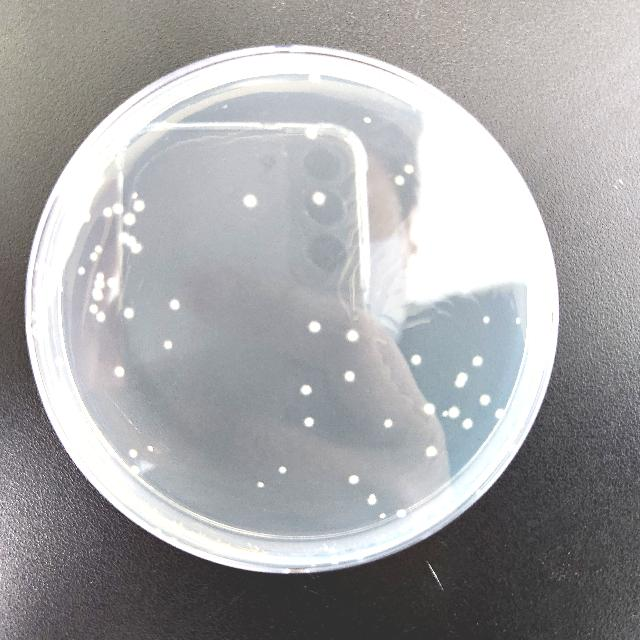colony: (312, 190, 326, 206), (243, 194, 257, 208), (346, 328, 359, 342), (308, 321, 322, 334), (122, 212, 136, 225), (306, 126, 318, 140), (133, 198, 145, 212), (422, 403, 436, 415), (118, 231, 130, 243), (92, 288, 104, 300), (112, 203, 124, 215), (394, 174, 406, 186), (300, 384, 312, 396), (437, 269, 448, 281), (108, 276, 119, 288), (448, 406, 459, 418), (132, 242, 142, 254), (103, 206, 113, 218), (124, 307, 134, 319), (114, 366, 126, 376), (170, 298, 180, 310), (426, 446, 438, 456), (96, 310, 106, 322), (411, 354, 422, 364), (462, 418, 473, 428), (344, 371, 354, 382), (304, 417, 314, 428), (406, 288, 416, 298), (95, 279, 105, 289), (126, 236, 136, 246), (457, 371, 467, 381), (495, 408, 505, 418), (310, 73, 320, 83), (397, 508, 407, 518), (405, 164, 415, 174), (81, 212, 91, 222), (128, 448, 138, 458), (89, 304, 99, 314), (130, 464, 140, 474), (349, 474, 359, 484), (472, 356, 482, 366), (480, 394, 490, 404), (419, 247, 428, 257), (383, 418, 392, 428), (367, 498, 377, 506), (456, 378, 464, 388), (164, 339, 172, 349), (56, 356, 64, 366), (448, 226, 457, 234), (448, 274, 456, 282), (492, 240, 500, 248), (96, 272, 104, 280), (464, 252, 472, 260), (440, 246, 448, 254), (447, 248, 455, 256), (455, 271, 463, 279), (461, 284, 469, 292), (502, 260, 510, 268), (476, 254, 484, 262), (482, 315, 490, 323), (279, 465, 287, 473), (95, 245, 103, 253), (90, 252, 98, 260), (42, 310, 48, 320), (78, 266, 85, 274), (446, 280, 454, 286), (132, 192, 138, 200), (442, 410, 448, 418), (82, 190, 88, 197), (364, 117, 371, 123), (380, 512, 386, 518), (258, 482, 264, 488), (148, 445, 154, 451), (58, 286, 64, 292), (368, 494, 376, 498), (42, 265, 46, 273), (512, 400, 516, 408), (355, 551, 363, 555), (516, 318, 520, 324), (525, 371, 529, 377)
